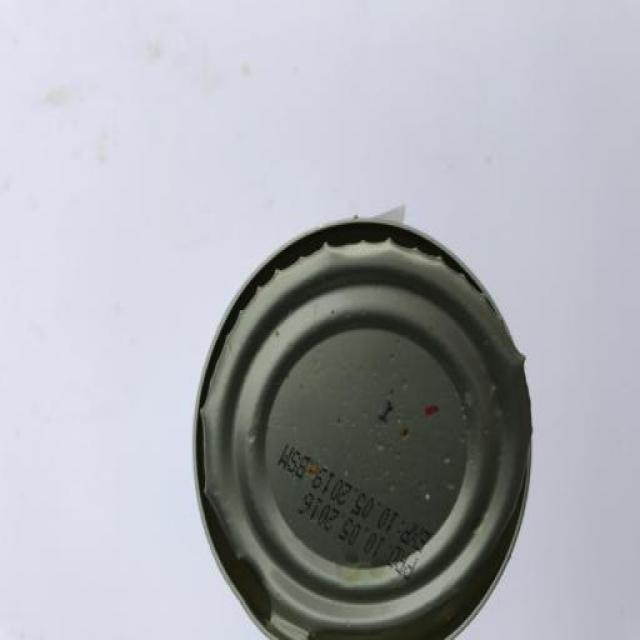metel: (174, 184, 533, 631)
